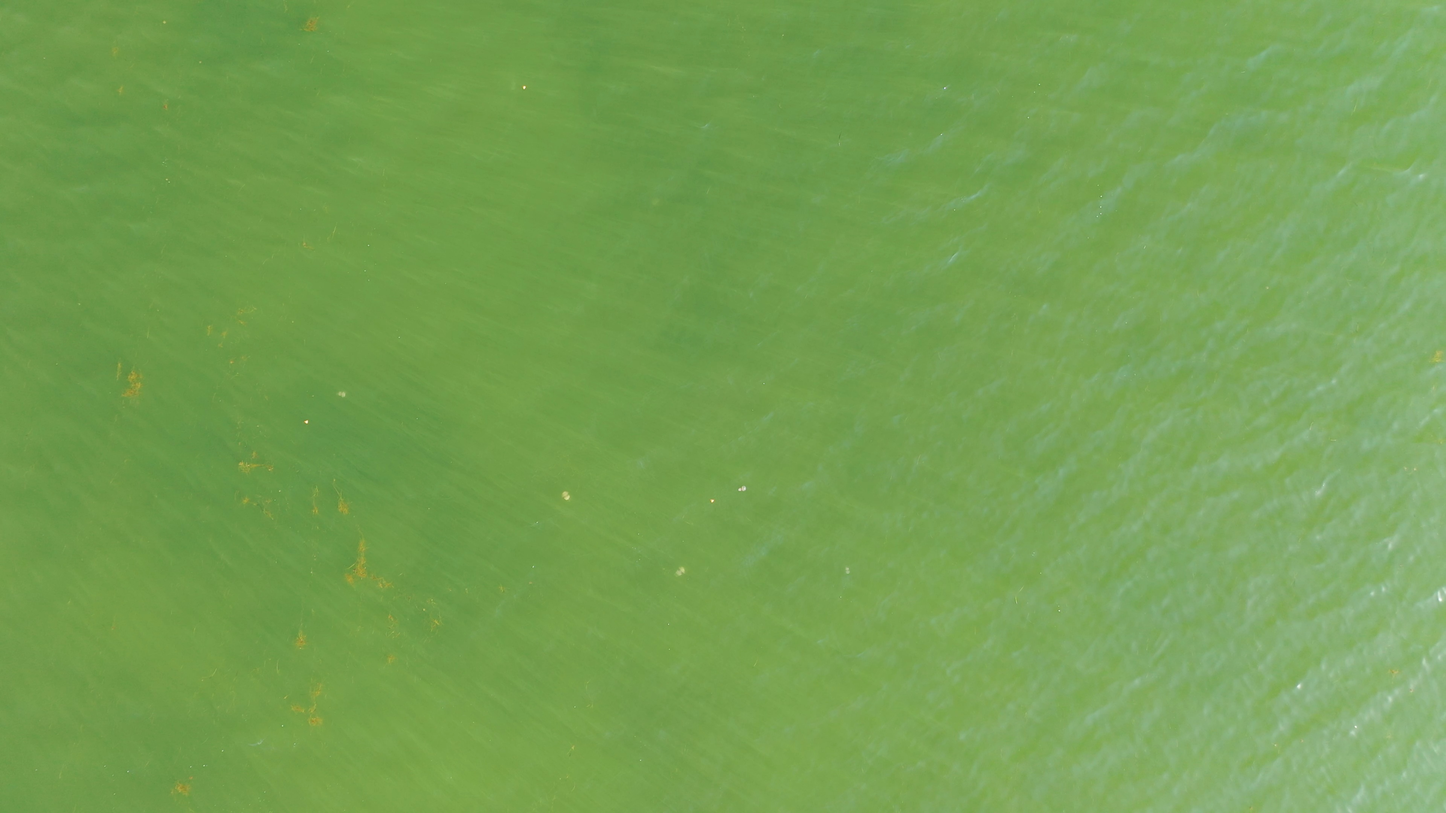meduse: (676, 567, 685, 577), (560, 491, 571, 499), (651, 196, 659, 206), (738, 485, 746, 492), (338, 390, 345, 398), (845, 567, 851, 574)
